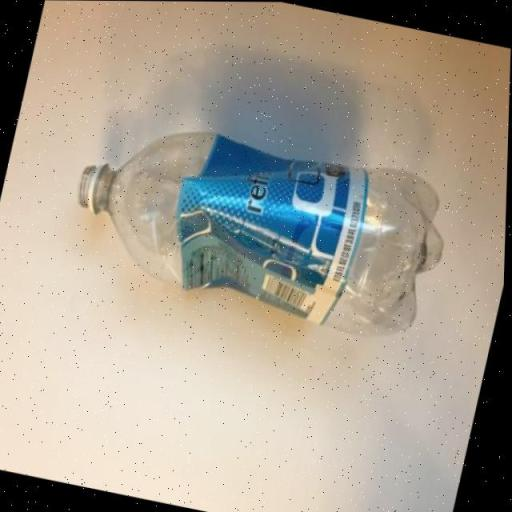plastic: (54, 108, 468, 351)
